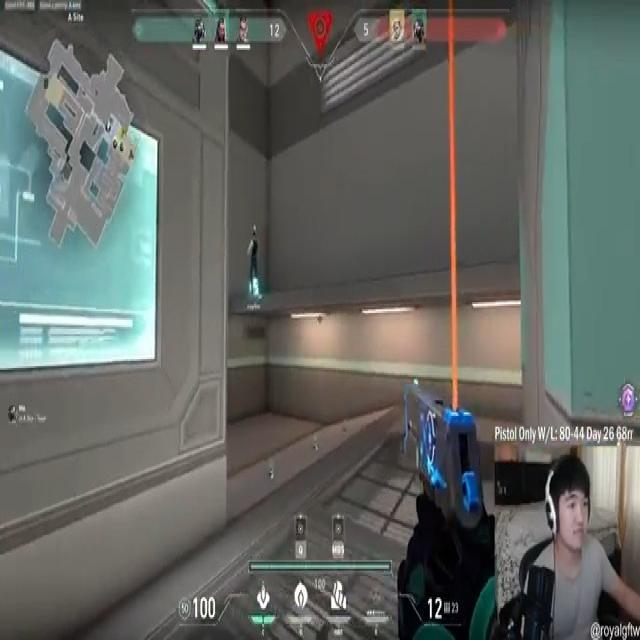ally: (246, 228, 262, 308)
